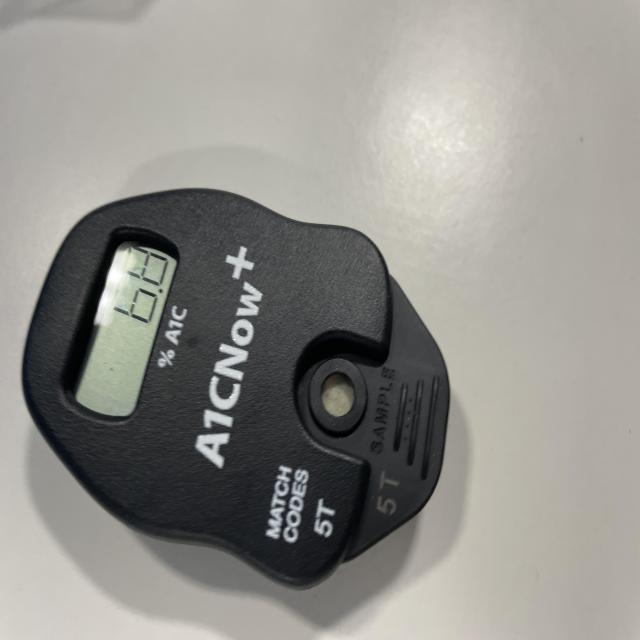hba1c: (20, 189, 452, 592)
